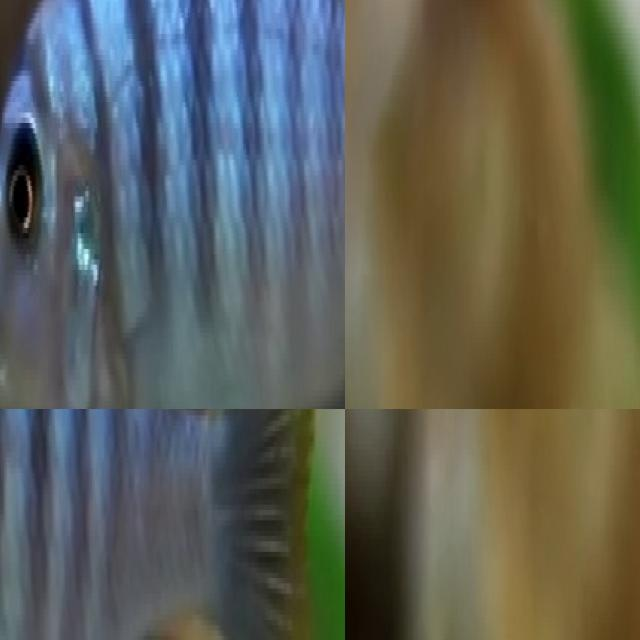fish: (0, 0, 345, 409), (0, 409, 337, 640)
